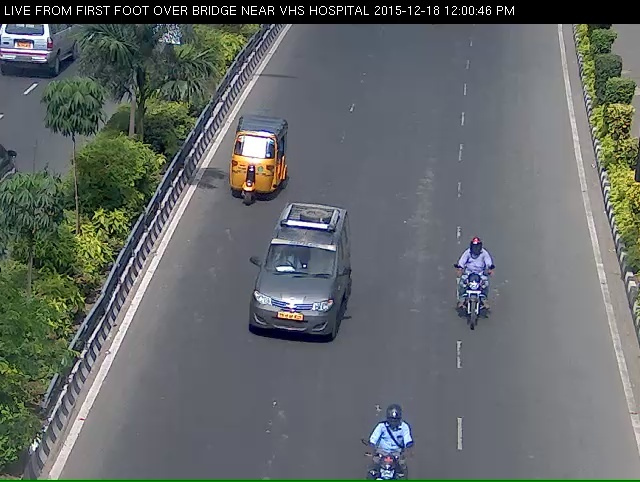Car: (234, 218, 347, 374), (217, 127, 288, 217)
Person: (452, 239, 500, 356)
